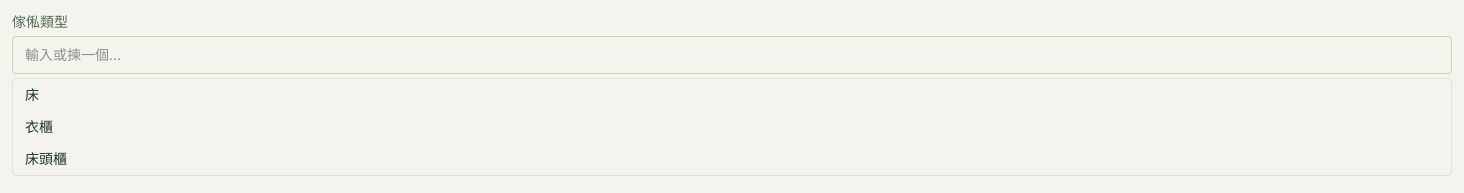
Scenario: SearchableSelect › does not offer creation when allowCreate is off
Type "酒櫃" into the field labelled "傢俬類型".
click(732, 55); type("酒櫃")  # box [12, 36, 1452, 74]
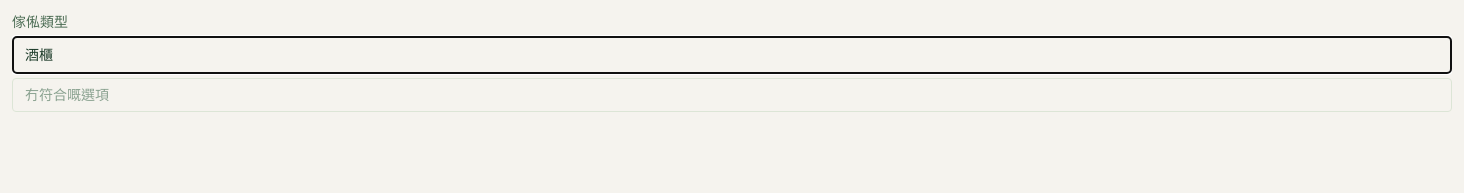
Check: the list item "冇符合嘅選項" is shown, box [25, 86, 109, 104]
